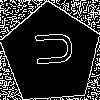U: (26, 29, 73, 69)
